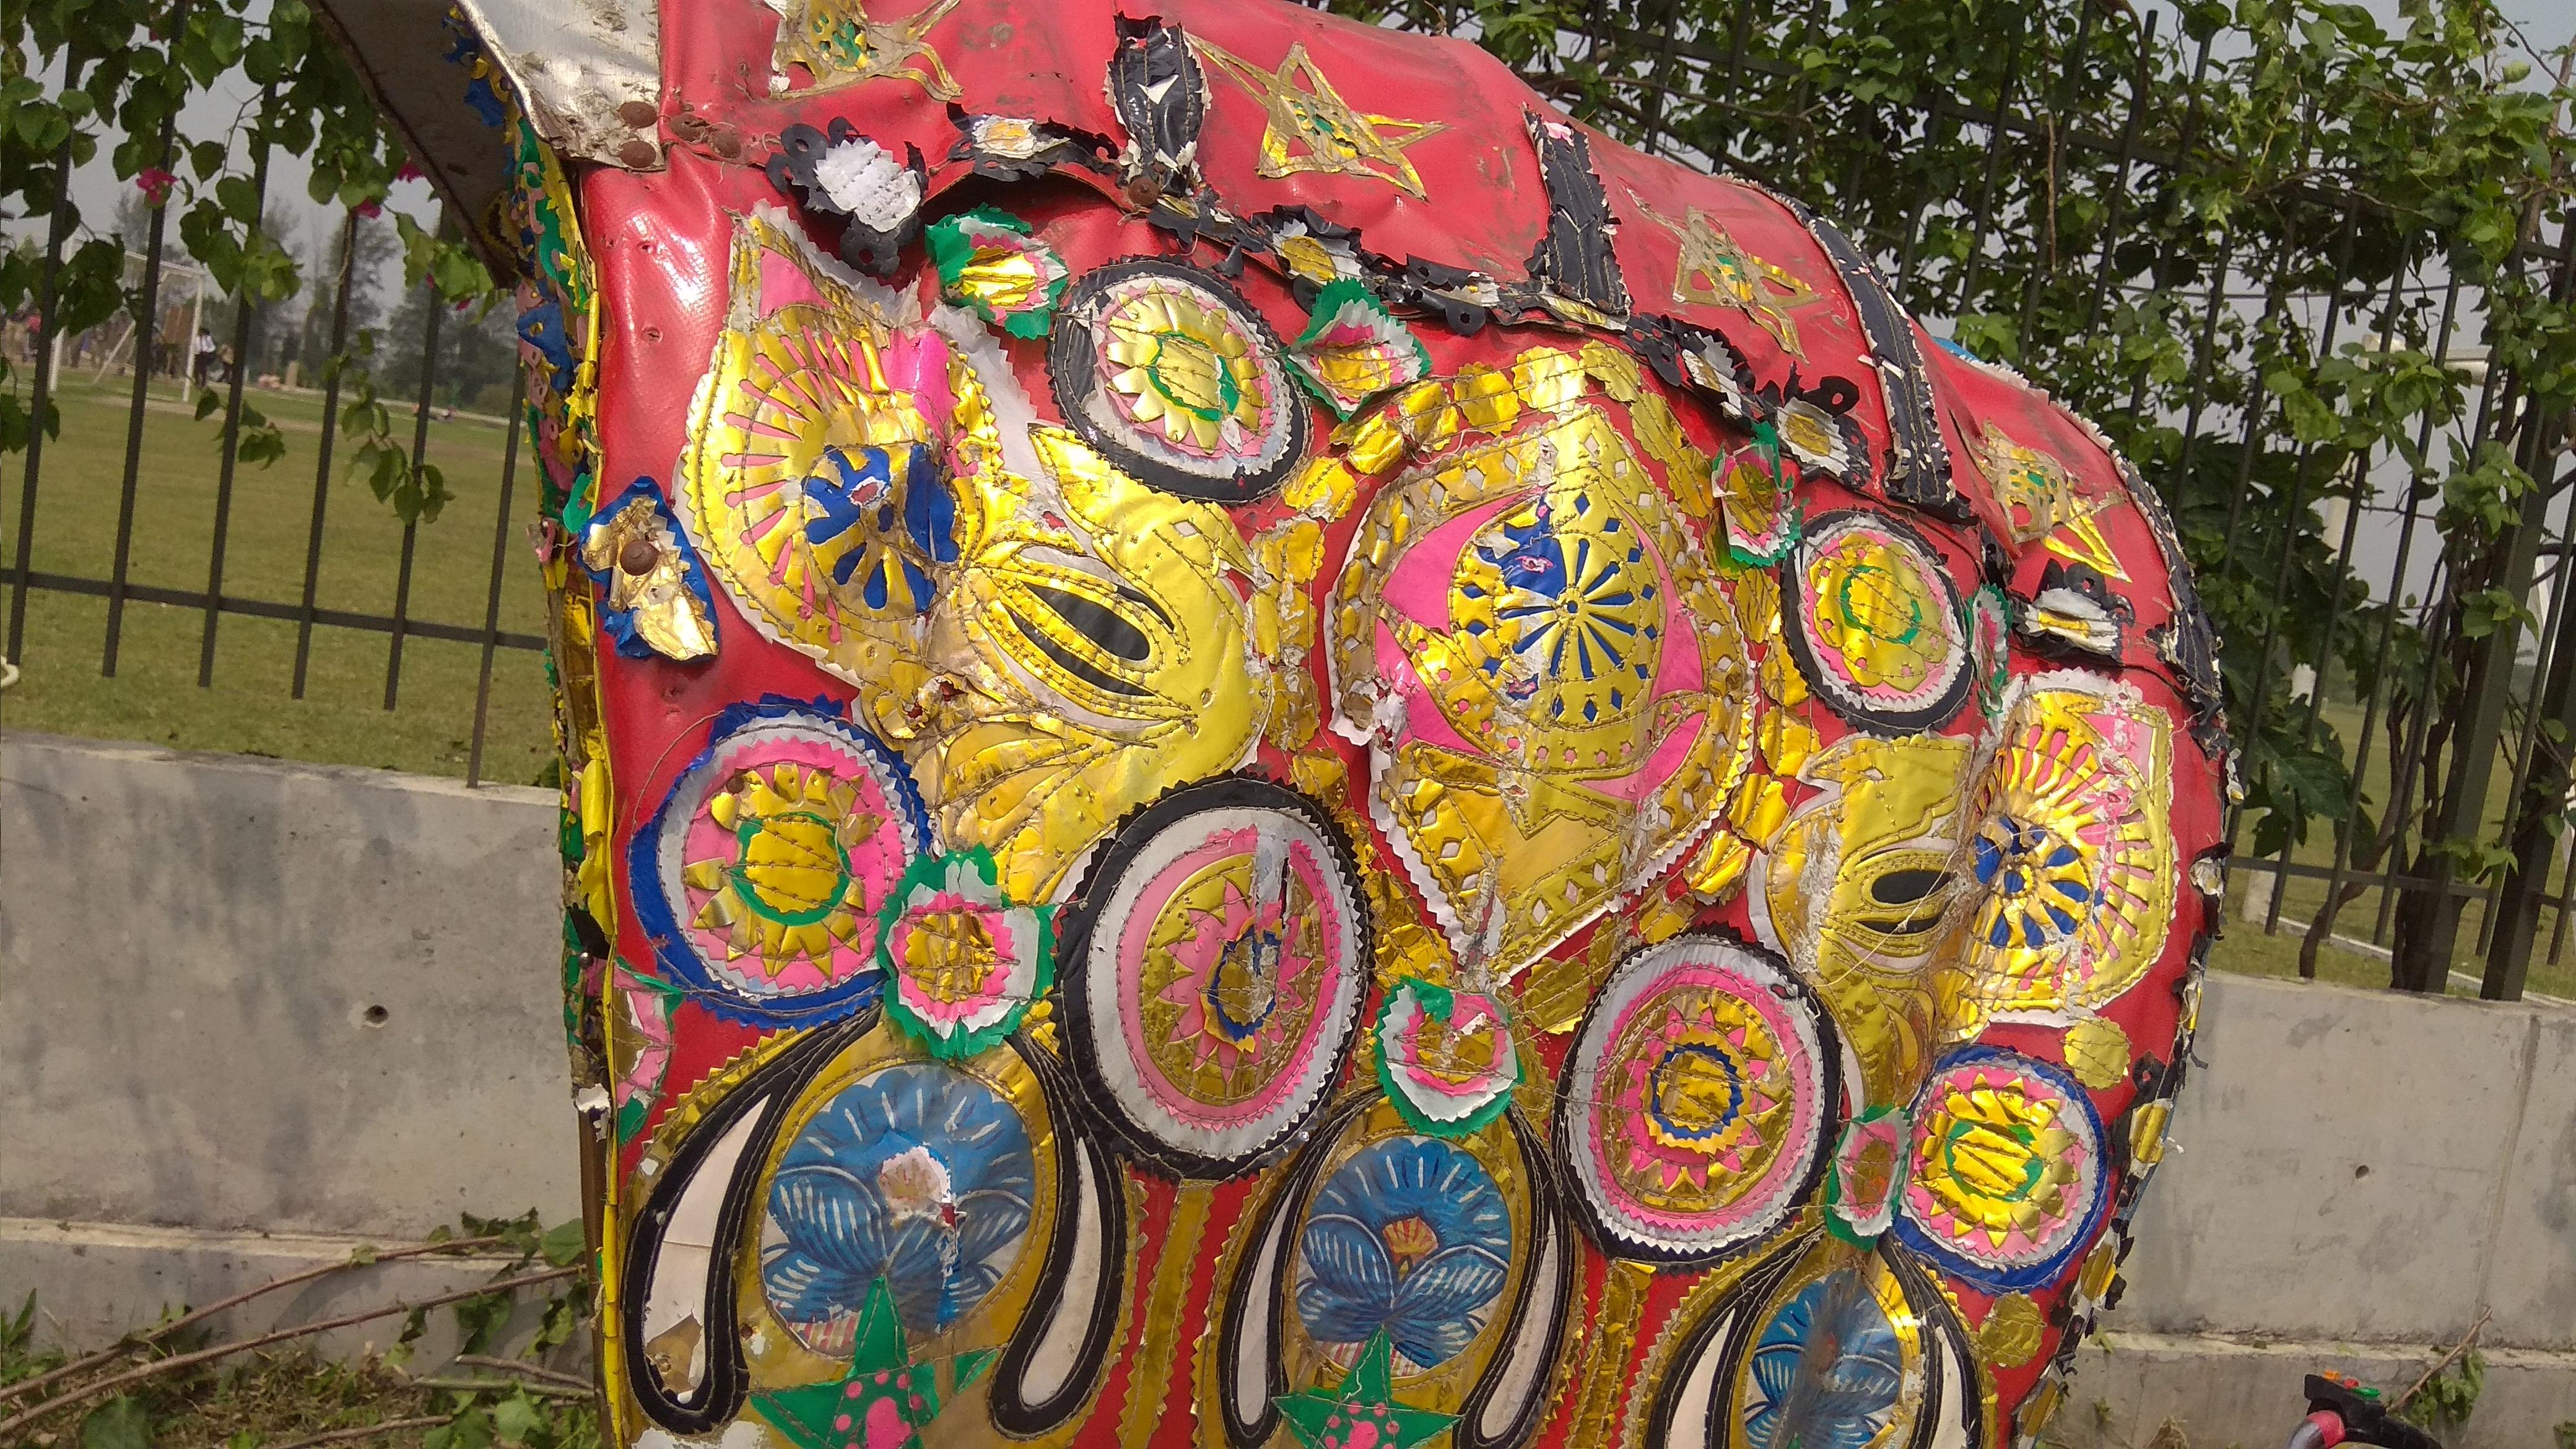Rickshaw: (297, 9, 2208, 1447)
